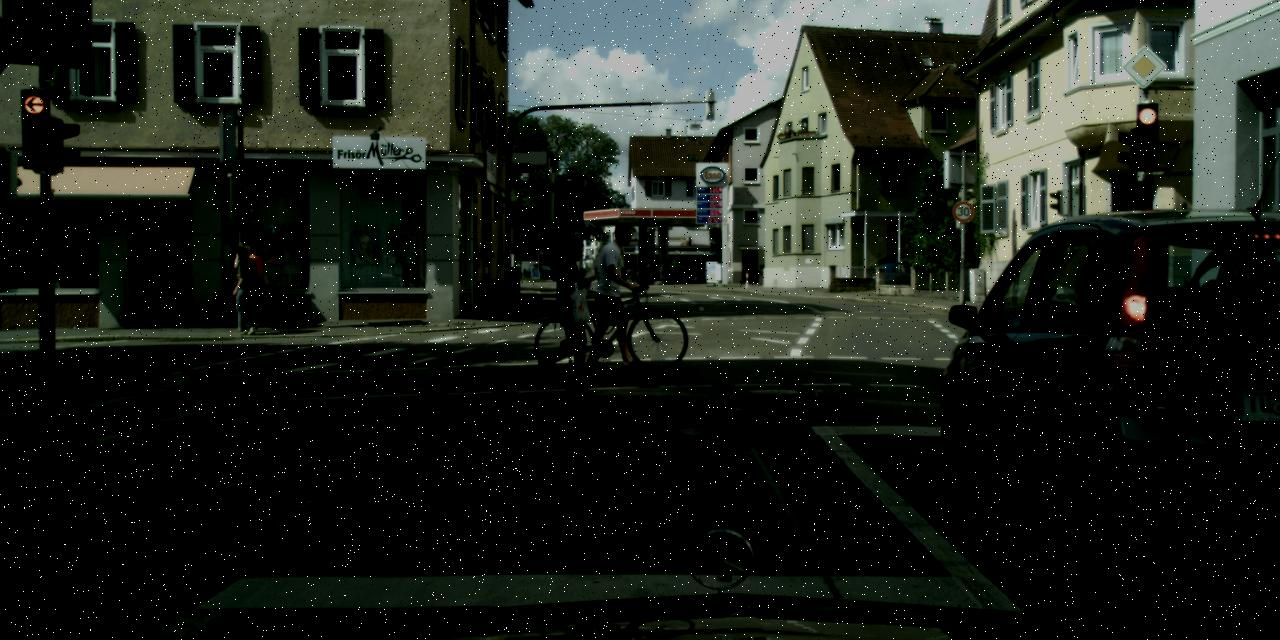ped: (590, 222, 648, 367), (538, 236, 596, 378), (228, 245, 263, 332), (235, 246, 267, 326)
